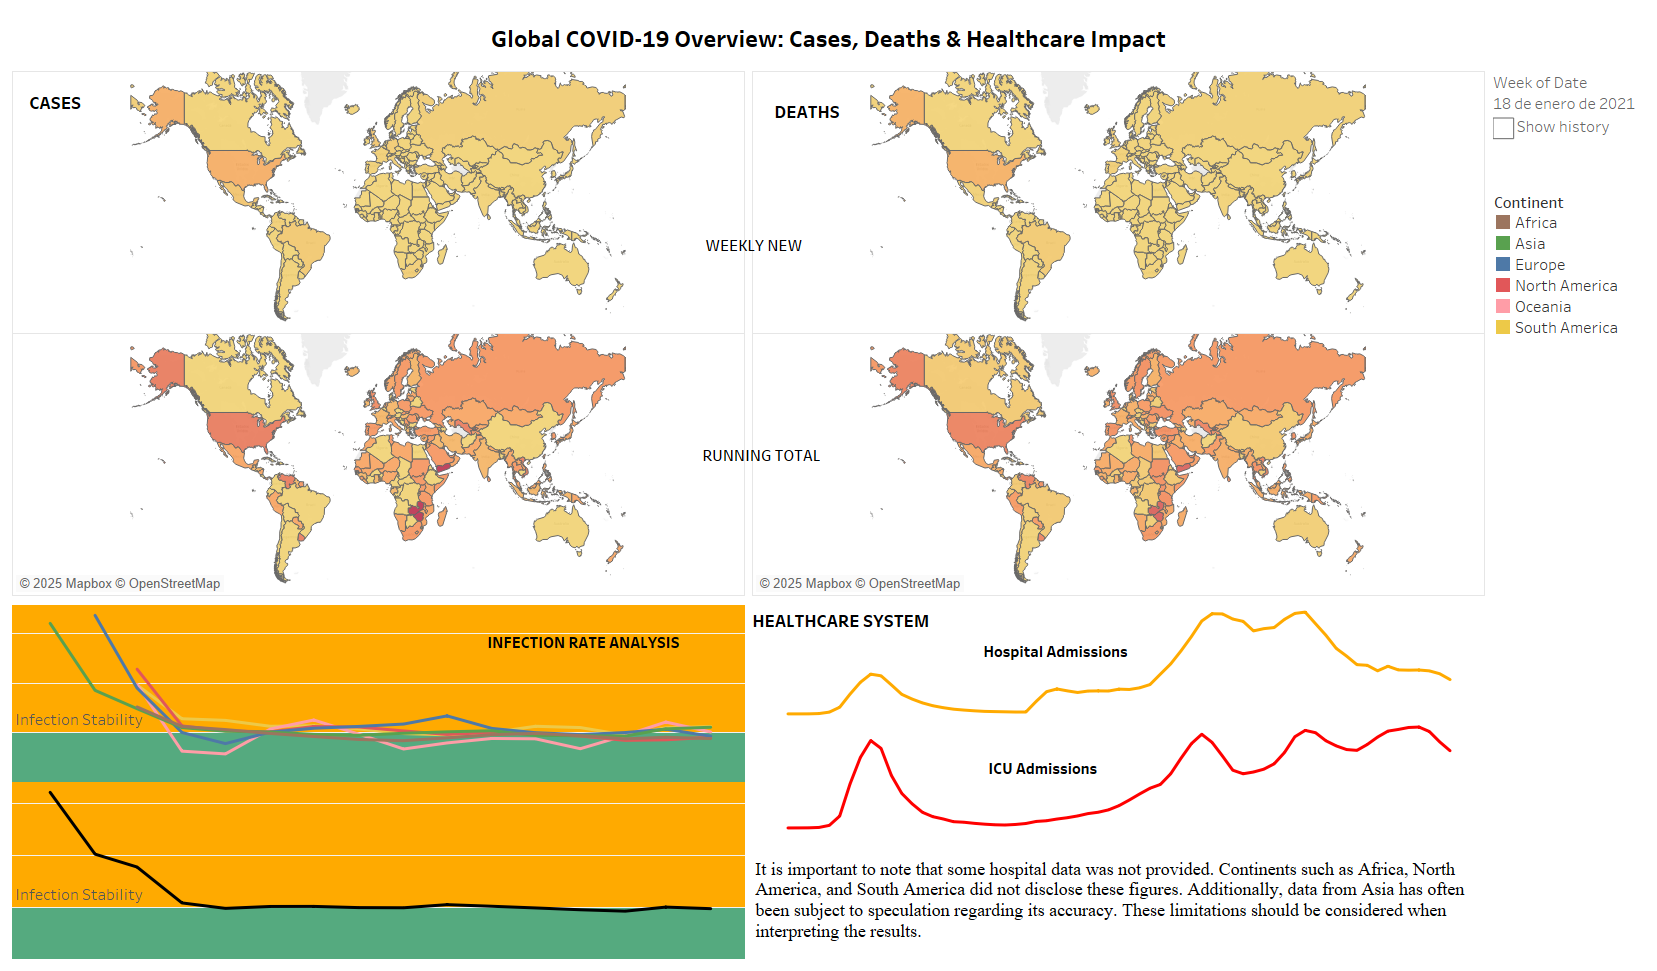

The page's visual inventory and layout, read from the dashboard file:
{"tool":"tableau","page":{"name":"GLOBAL","canvas":[1000,1000],"units":"permille","ordinal":1},"visuals":[{"type":"text","box":[4.8,9.1,990.3,60.6]},{"type":"worksheet","title":"Glo - Deaths","mark":"Multipolygon","box":[4.8,69.7,446.9,548.6]},{"type":"worksheet","title":"Glo - Cases","mark":"Multipolygon","box":[451.7,69.7,446.9,548.6]},{"type":"currpage","title":"Glo - Deaths","box":[898.6,69.7,96.6,130.3]},{"type":"text","box":[15.7,88,60.4,34.3]},{"type":"text","box":[465.3,97.1,60.4,34.3]},{"type":"legend","title":"Reprod Rate","param":"[federated.079hfx01pjzfol1c4ayp50n285sd].[none:continent:nk]","box":[898.6,200,96.6,178.3]},{"type":"text","box":[423.7,235.4,62.8,34.3]},{"type":"text","box":[421.9,451.4,82.1,34.3]},{"type":"worksheet","title":"Reprod Rate","mark":"Automatic","rows":["reproduction_rate","reproduction_rate"],"cols":["date"],"box":[4.8,618.3,446.9,372.6]},{"type":"worksheet","title":"Glo -  Hosp vs Uci","mark":"Automatic","rows":["weekly_hosp_admissions","weekly_icu_admissions"],"cols":["date"],"box":[451.7,618.3,446.9,243.4]},{"type":"text","box":[452,621.7,117.1,34.3]},{"type":"text","box":[292.1,644.6,120.1,34.3]},{"type":"text","box":[591.4,653.7,91.7,34.3]},{"type":"text","box":[594.5,773.7,91.7,34.3]},{"type":"text","box":[451.7,861.7,446.9,129.2]}]}

Visuals, with their boxes on the dashboard's canvas, which has no fixed pixel size, in thousandths of its width and height (x1, y1, x2, y2). These are canvas units, not pixel positions in the 1657x971 screenshot, which may show the page scaled, cropped or inside an application window:
text: [x1=5, y1=9, x2=995, y2=70]
"Glo - Deaths" worksheet (Multipolygon marks): [x1=5, y1=70, x2=452, y2=618]
"Glo - Cases" worksheet (Multipolygon marks): [x1=452, y1=70, x2=899, y2=618]
"Glo - Deaths" currpage: [x1=899, y1=70, x2=995, y2=200]
text: [x1=16, y1=88, x2=76, y2=122]
text: [x1=465, y1=97, x2=526, y2=131]
"Reprod Rate" legend: [x1=899, y1=200, x2=995, y2=378]
text: [x1=424, y1=235, x2=486, y2=270]
text: [x1=422, y1=451, x2=504, y2=486]
"Reprod Rate" worksheet: [x1=5, y1=618, x2=452, y2=991]
"Glo -  Hosp vs Uci" worksheet: [x1=452, y1=618, x2=899, y2=862]
text: [x1=452, y1=622, x2=569, y2=656]
text: [x1=292, y1=645, x2=412, y2=679]
text: [x1=591, y1=654, x2=683, y2=688]
text: [x1=594, y1=774, x2=686, y2=808]
text: [x1=452, y1=862, x2=899, y2=991]
